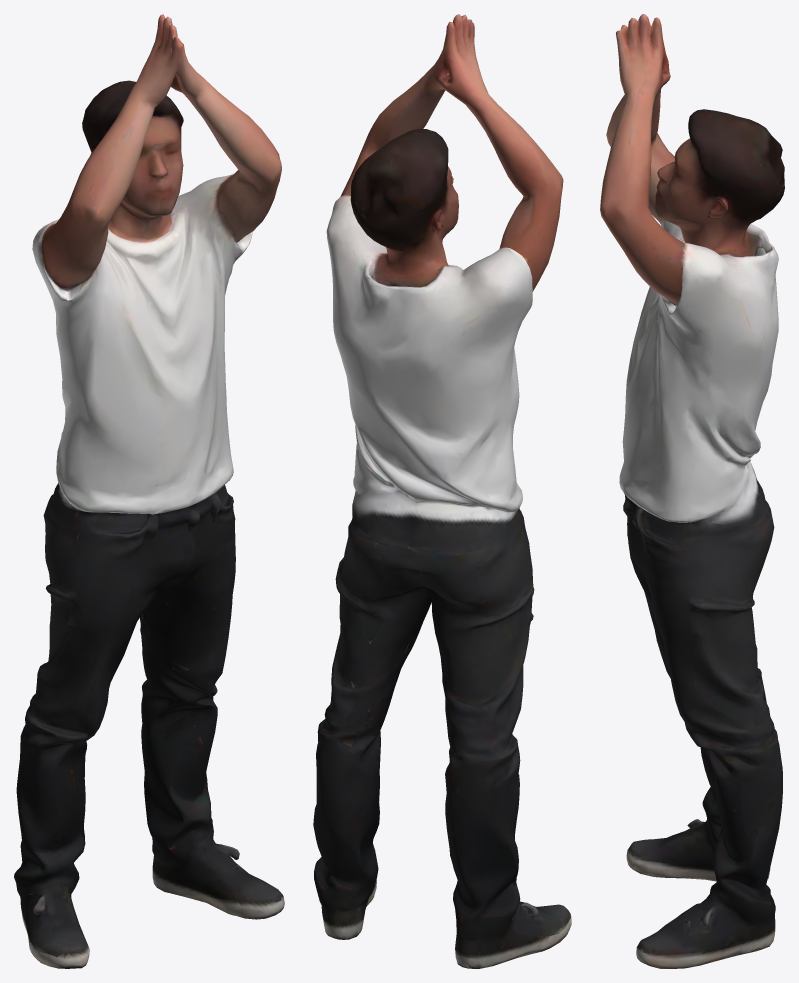
The model's file is fan-m-clap-s2.glb.
3 views of the same model, side by side, from view 1: azimuth 30°, elevation 25°; view 2: azimuth 150°, elevation 25°; view 3: azimuth 270°, elevation 25° (orthographic). The views are drawn at different scales.
Parts seen in each view (by area): view 1: geometry_0; view 2: geometry_0; view 3: geometry_0.
Part boxes in pixels (left/top/right/bottom): geometry_0: left=14, top=14, right=284, bottom=968; geometry_0: left=313, top=14, right=571, bottom=968; geometry_0: left=600, top=14, right=784, bottom=968.
Size of the model in its own units: 0.2709 by 1 by 0.1863.
Materials: 1 (1 with a texture image).
